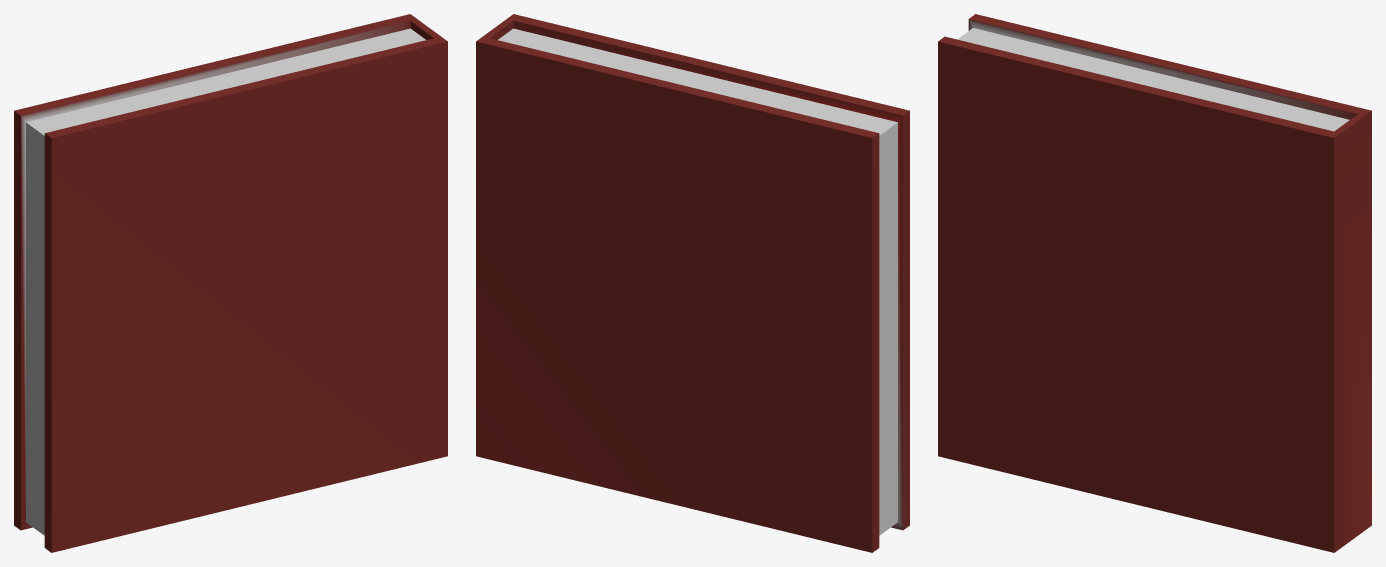
File: mv_book_01.fbx
3 views of the same model, side by side, from view 1: azimuth 30°, elevation 25°; view 2: azimuth 150°, elevation 25°; view 3: azimuth 330°, elevation 25° (orthographic).
Visible parts, largest first — view 1: move_book_01; view 2: move_book_01; view 3: move_book_01.
Part boxes in pixels (left/top/right/bottom): move_book_01: left=14, top=14, right=447, bottom=552; move_book_01: left=476, top=14, right=909, bottom=552; move_book_01: left=938, top=14, right=1371, bottom=552.
Bounding box in the file's own units: 0.2898 × 0.0476 × 0.2898.
